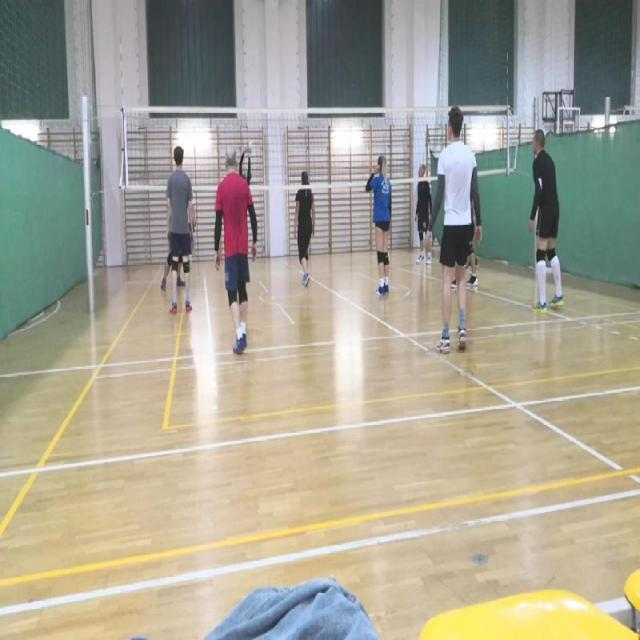volleyball: (245, 142, 252, 152)
